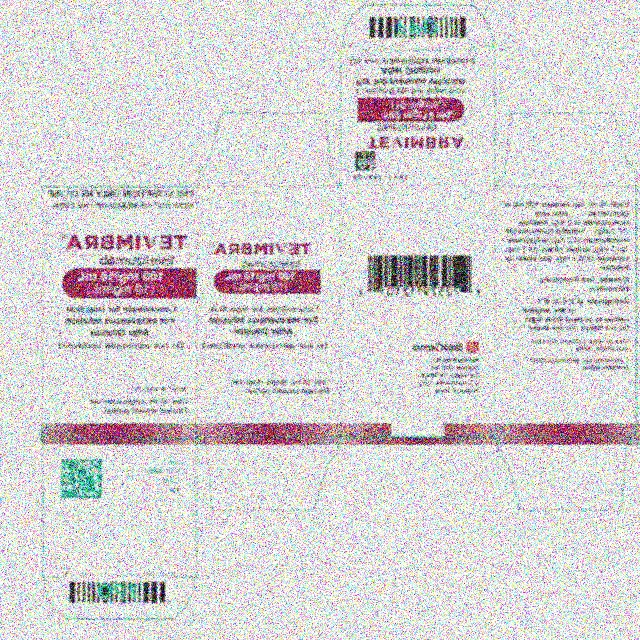Artwork: (0, 0, 640, 640)
Back_Panel: (340, 185, 494, 437)
Bottom_Part: (44, 437, 196, 578)
Extra_Areas: (497, 109, 639, 186), (198, 436, 341, 512), (495, 438, 636, 514), (198, 111, 339, 186), (341, 4, 495, 46)
Front_Panel: (42, 186, 196, 438)
Side_Panel: (196, 188, 341, 438), (496, 186, 637, 436)
Top_Panel: (341, 46, 494, 185)
